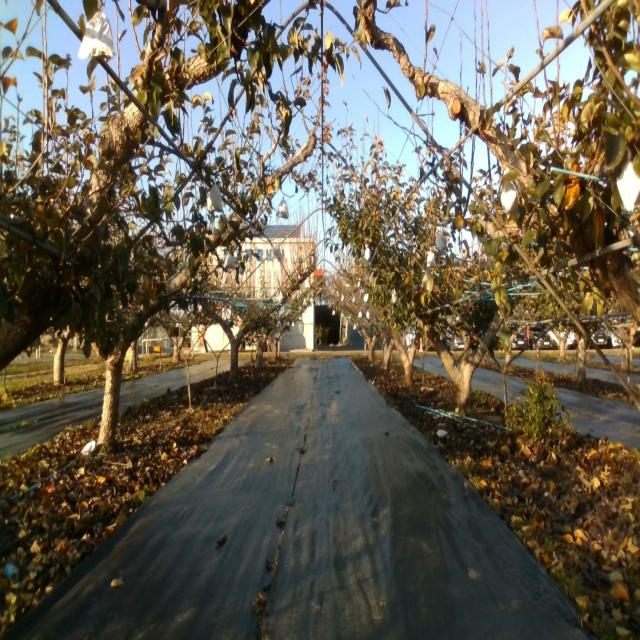pearbags: (78, 10, 115, 61), (615, 157, 640, 218), (500, 185, 518, 214), (206, 185, 224, 214), (276, 196, 290, 220), (436, 233, 446, 254)
